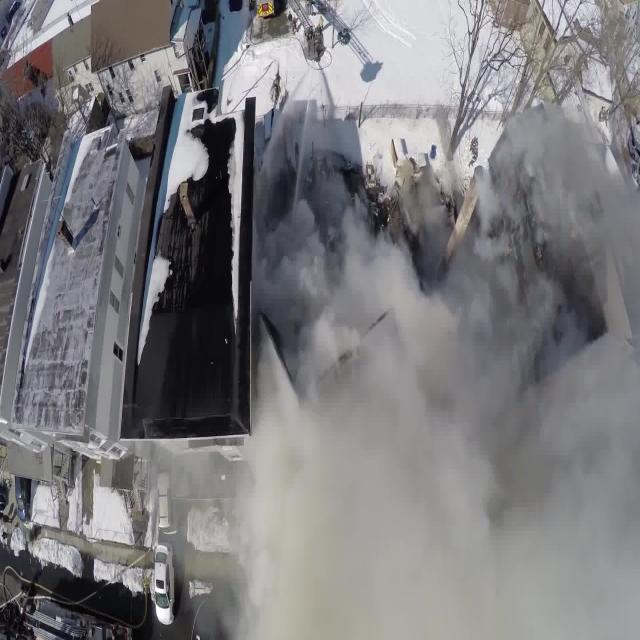smoke: (262, 352, 640, 640)
